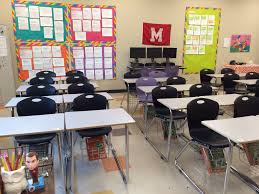desk: (63, 105, 136, 188), (0, 115, 67, 193), (200, 116, 257, 193), (153, 92, 207, 112), (7, 93, 64, 110), (63, 89, 113, 103)
